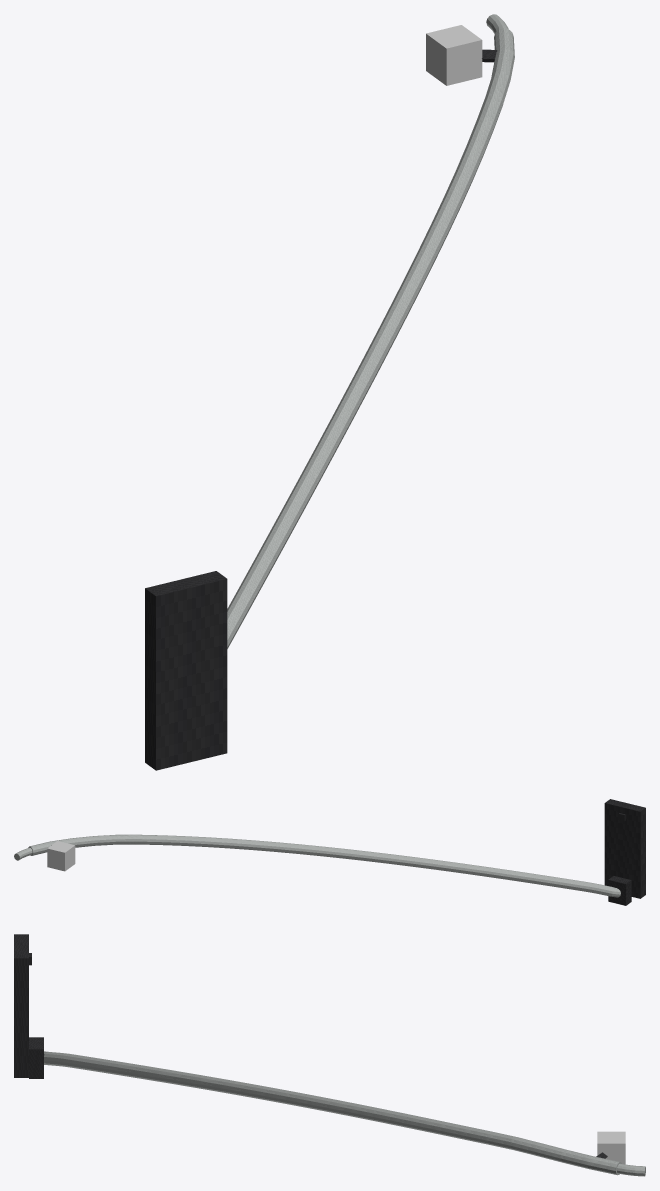
The model's file is arm_5_right_left.obj.
The picture shows the model from 3 angles, top to bottom: view 1: azimuth 30°, elevation 25°; view 2: azimuth 150°, elevation 25°; view 3: azimuth 270°, elevation 25°; orthographic projection. The views are drawn at different scales.
Visible parts, largest first — view 1: pole_light_mount_5_right_left; view 2: pole_light_mount_5_right_left; view 3: pole_light_mount_5_right_left.
Part boxes in pixels (left/top/right/bottom): pole_light_mount_5_right_left: left=145, top=14, right=514, bottom=770; pole_light_mount_5_right_left: left=14, top=799, right=645, bottom=905; pole_light_mount_5_right_left: left=14, top=934, right=645, bottom=1176.
Size of the model in its own units: 4.22 by 1.24 by 4.19.
